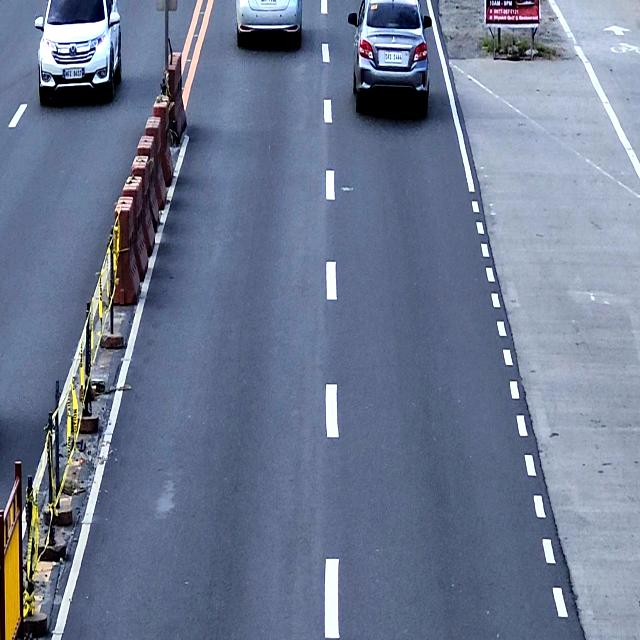Car: (347, 0, 432, 114), (34, 0, 122, 105), (235, 0, 303, 47)
License-Plate: (384, 51, 403, 63), (64, 68, 82, 78), (261, 0, 276, 5)
